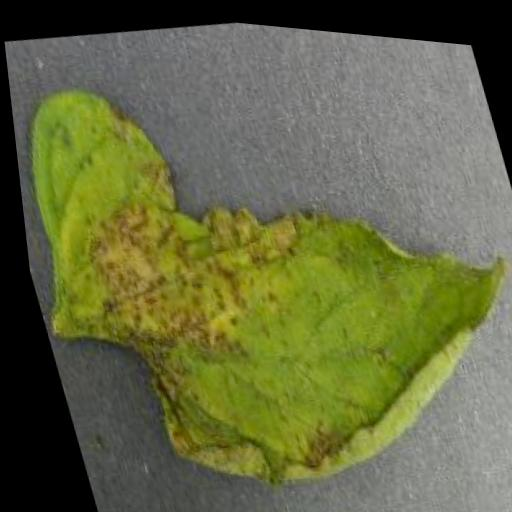Bacterial Spot: (1, 10, 512, 512)
